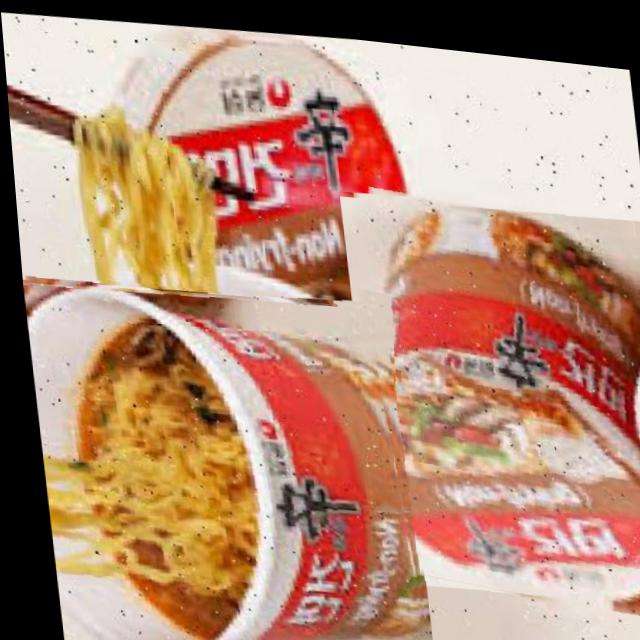Miscellaneous: (17, 261, 424, 640), (334, 170, 640, 610)
